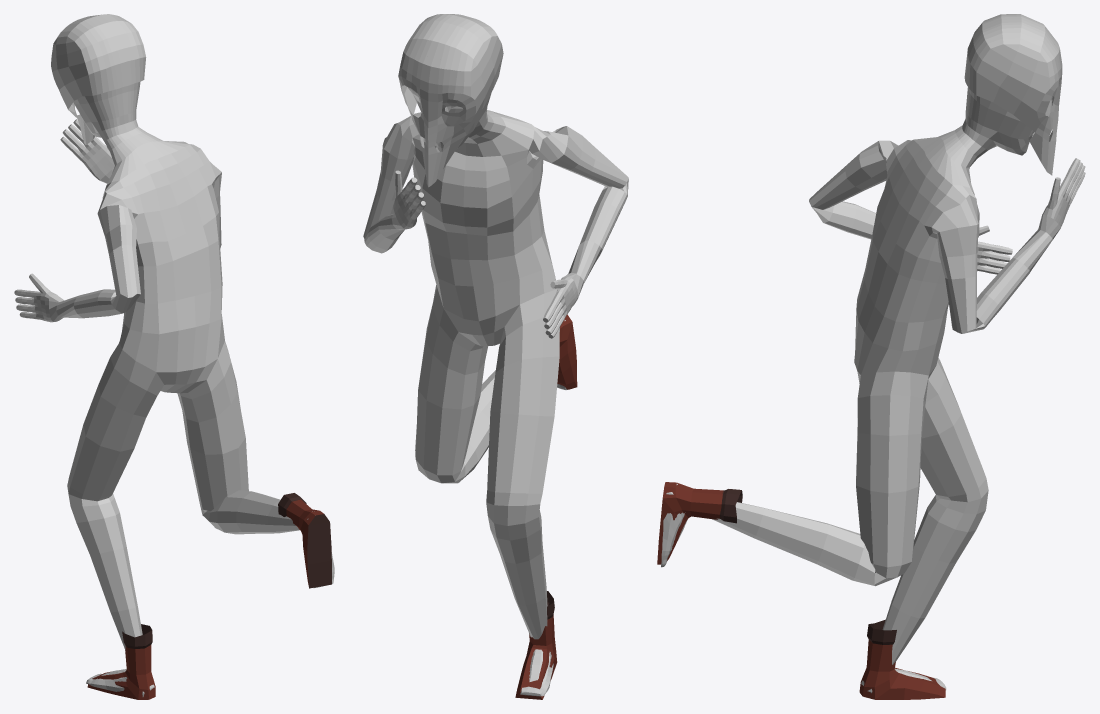
File: correr_000150.obj
The picture shows the model from 3 angles, left to right: view 1: azimuth 30°, elevation 25°; view 2: azimuth 150°, elevation 25°; view 3: azimuth 270°, elevation 25°; orthographic projection. The views are drawn at different scales.
Parts seen in each view (by area): view 1: Plane.002_Plane.001, Plane.003, Plane.004; view 2: Plane.002_Plane.001, Plane.004, Plane.003; view 3: Plane.002_Plane.001, Plane.004, Plane.003.
Part boxes in pixels (left/top/right/bottom): Plane.002_Plane.001: left=14, top=14, right=334, bottom=696; Plane.003: left=278, top=493, right=331, bottom=588; Plane.004: left=87, top=624, right=155, bottom=699; Plane.002_Plane.001: left=363, top=14, right=628, bottom=696; Plane.004: left=515, top=591, right=557, bottom=699; Plane.003: left=557, top=314, right=577, bottom=389; Plane.002_Plane.001: left=661, top=14, right=1085, bottom=693; Plane.004: left=859, top=619, right=945, bottom=699; Plane.003: left=657, top=482, right=742, bottom=564.
Size of the model in its own units: 2.03 by 6.56 by 3.68.
